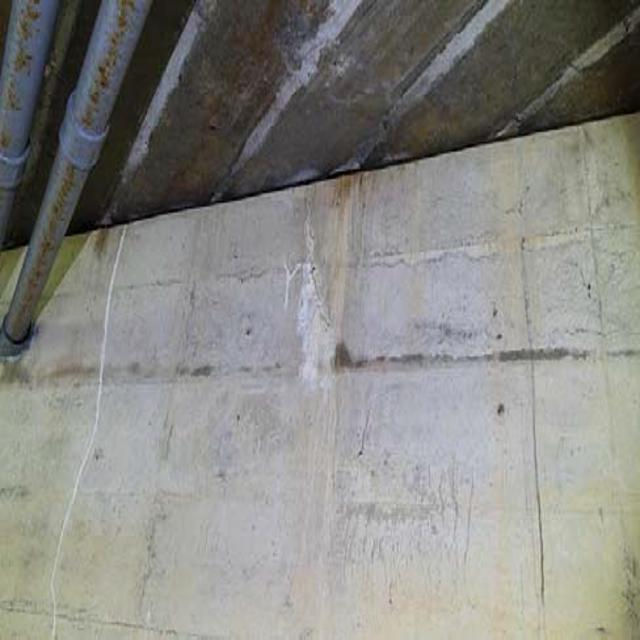freelime: (274, 233, 354, 386)
